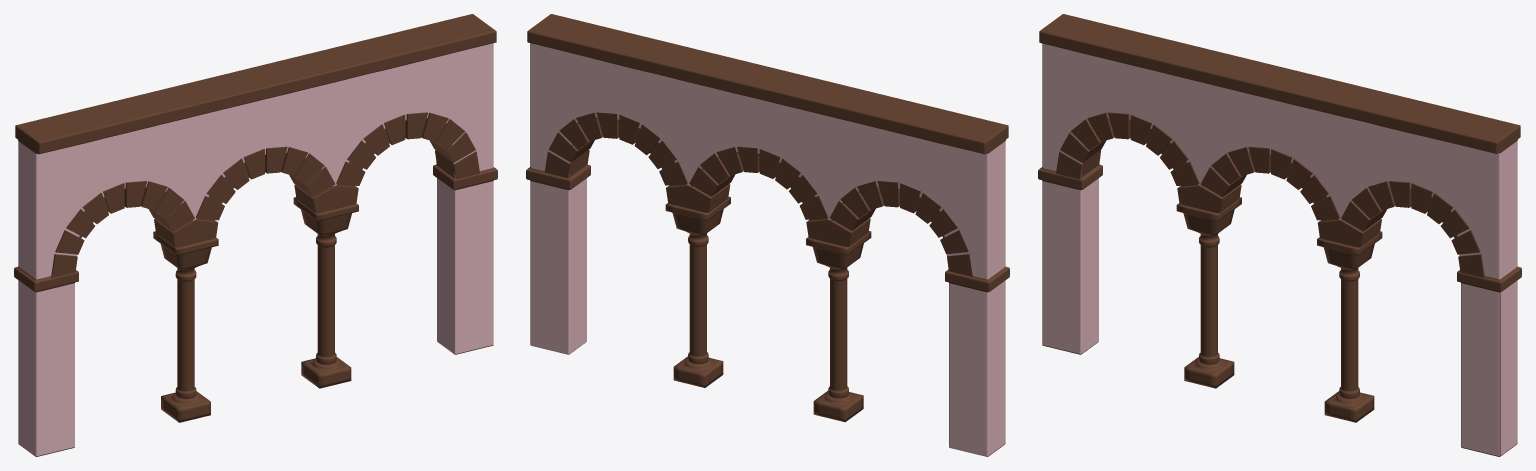
Rendered from arcos.gltf.
3 renders of one model, left to right at view 1: azimuth 30°, elevation 25°; view 2: azimuth 150°, elevation 25°; view 3: azimuth 330°, elevation 25°, orthographic.
Parts seen in each view (by area): view 1: Circle.001, Circle, Cube.001, Cube.002; view 2: Circle.001, Circle, Cube.001, Cube.002; view 3: Circle.001, Circle, Cube.001, Cube.002.
Boxes of the visible parts, left/top/right/bottom form: Circle.001: left=14, top=14, right=497, bottom=456; Circle: left=51, top=112, right=479, bottom=277; Cube.001: left=293, top=197, right=358, bottom=388; Cube.002: left=153, top=231, right=218, bottom=422; Circle.001: left=526, top=14, right=1009, bottom=456; Circle: left=544, top=112, right=972, bottom=276; Cube.001: left=665, top=196, right=730, bottom=387; Cube.002: left=806, top=231, right=871, bottom=422; Circle.001: left=1038, top=14, right=1521, bottom=456; Circle: left=1056, top=112, right=1484, bottom=277; Cube.001: left=1317, top=231, right=1382, bottom=422; Cube.002: left=1176, top=197, right=1241, bottom=388.
Bounding box in the file's own units: 29.33 × 19.16 × 2.67.
